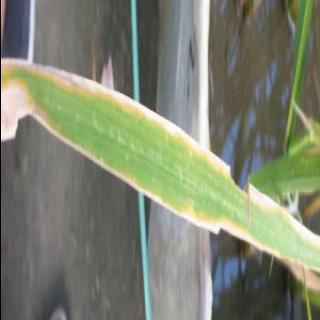Hawar-Daun: (1, 60, 319, 252), (0, 77, 319, 268)
